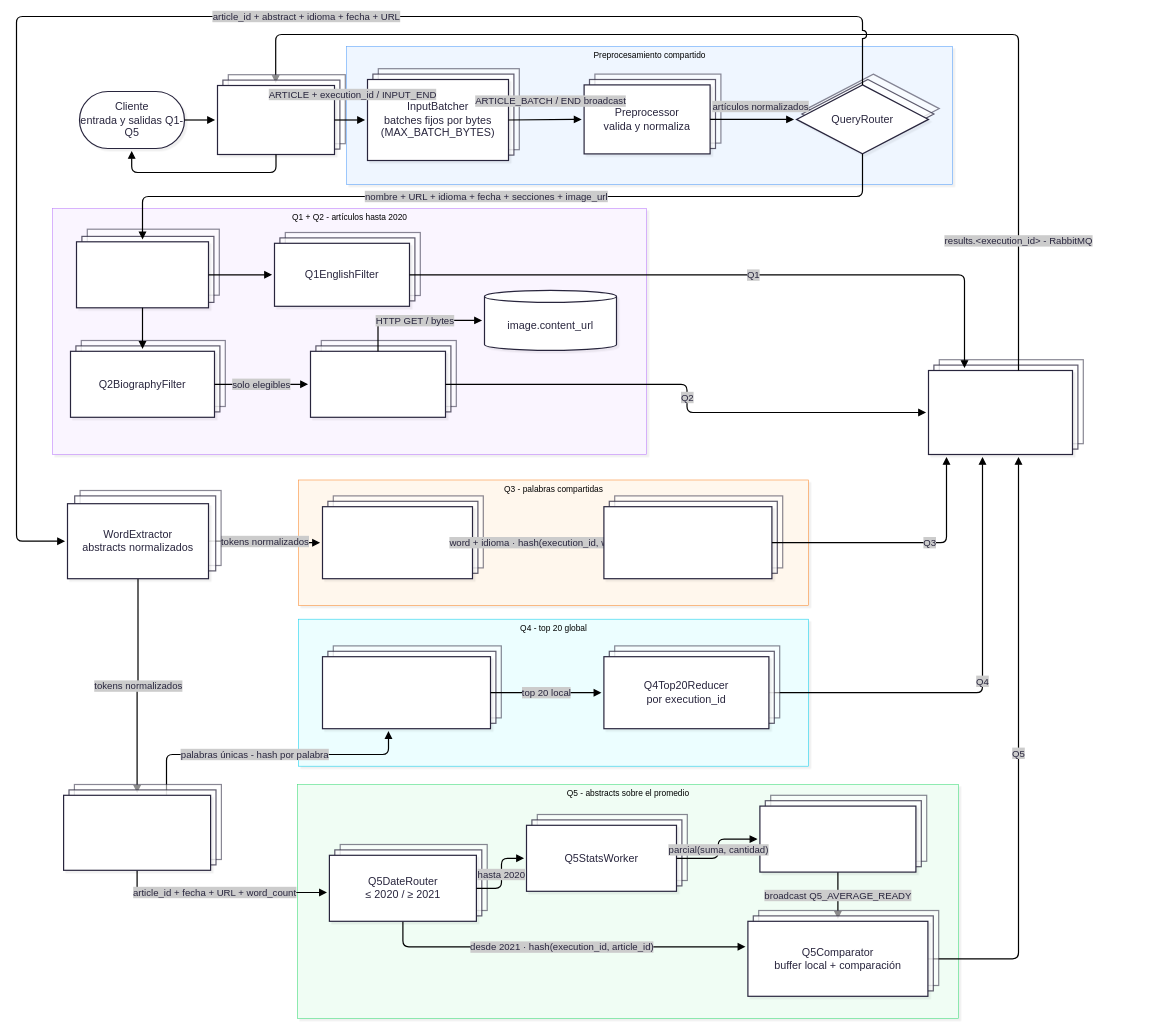
Some shapes in this 1160 by 1031 pixel diagram are drawn without their labels. The shapes that lost their labels are listed below. From the top down, each one's centre as x and y in pixels, then its label:
[277,121]: Gateway (crea execution_id)
[143,275]: Until2020Filter fecha ≤ 2020
[379,385]: ImageFetcher
[1001,413]: ResultSink barrera por execution_id
[398,543]: Q3WordProjector palabras únicas
[689,543]: Q3WordAggregator hash por palabra
[407,693]: Q4WordCounter hash por palabra
[138,833]: Q4Q5WordProjector sin stopwords - únicas
[839,840]: Q5AverageReducer por execution_id
